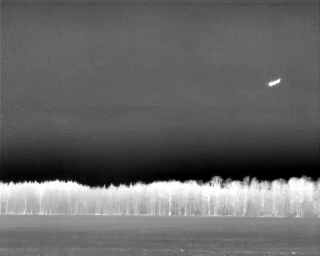DRONE: (264, 74, 285, 91)
